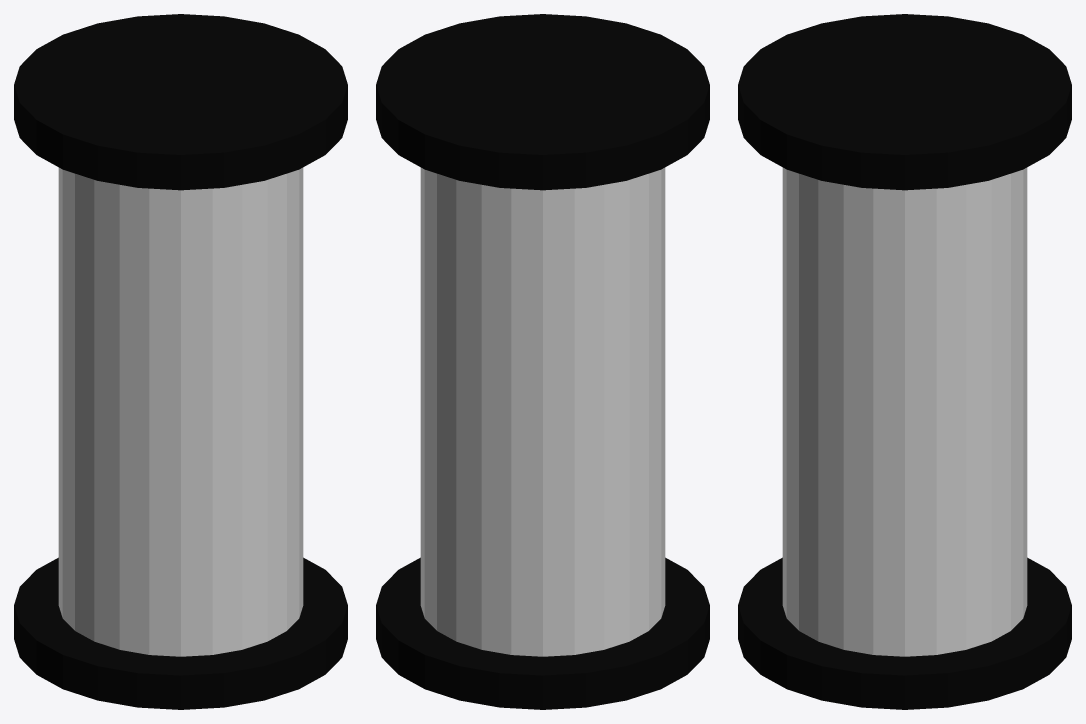
File: Ball In Tube.fbx
3 renders of one model, left to right at view 1: azimuth 30°, elevation 25°; view 2: azimuth 150°, elevation 25°; view 3: azimuth 270°, elevation 25°, orthographic.
Parts seen in each view (by area): view 1: Glass_Tube.001; view 2: Glass_Tube.001; view 3: Glass_Tube.001.
Boxes of the visible parts, x1,y1,x2,y2 form: Glass_Tube.001: (14, 14, 347, 709); Glass_Tube.001: (376, 14, 709, 709); Glass_Tube.001: (738, 14, 1071, 709).
Bounding box in the file's own units: 54.53 × 100 × 54.53.
